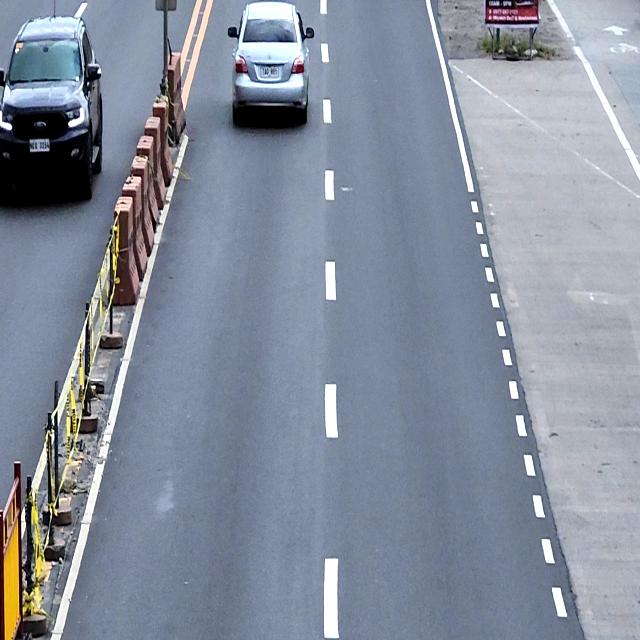Car: (0, 9, 104, 200), (227, 0, 314, 124)
License-Plate: (28, 138, 51, 152), (260, 66, 280, 80)
